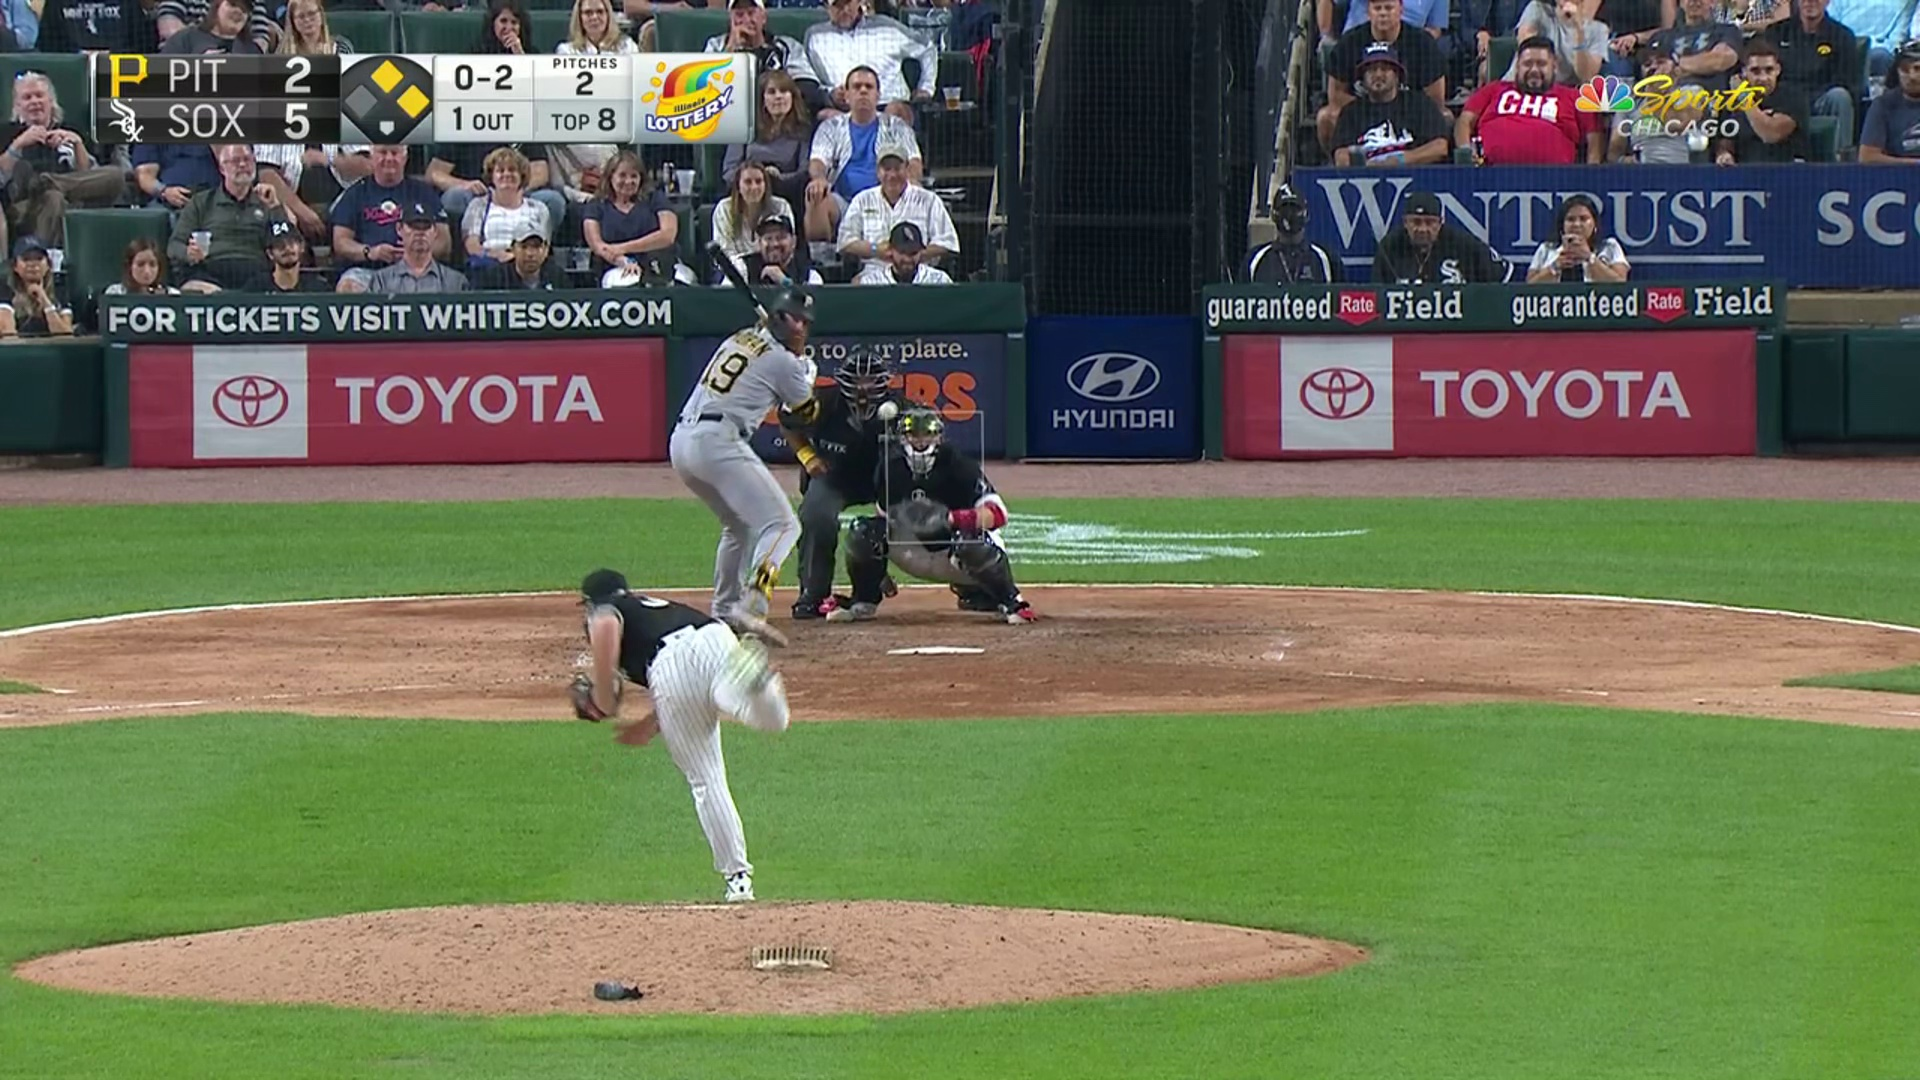baseball: (877, 400, 897, 419), (876, 398, 877, 400)
